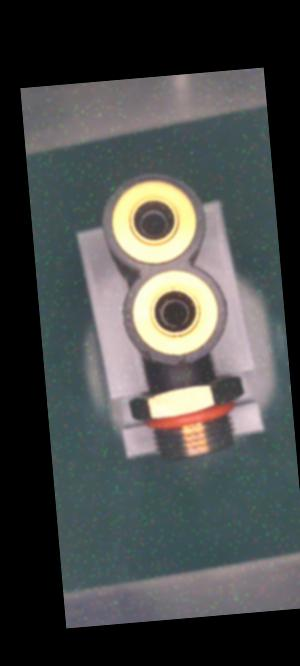bump: (170, 351, 195, 371), (133, 345, 154, 365)
